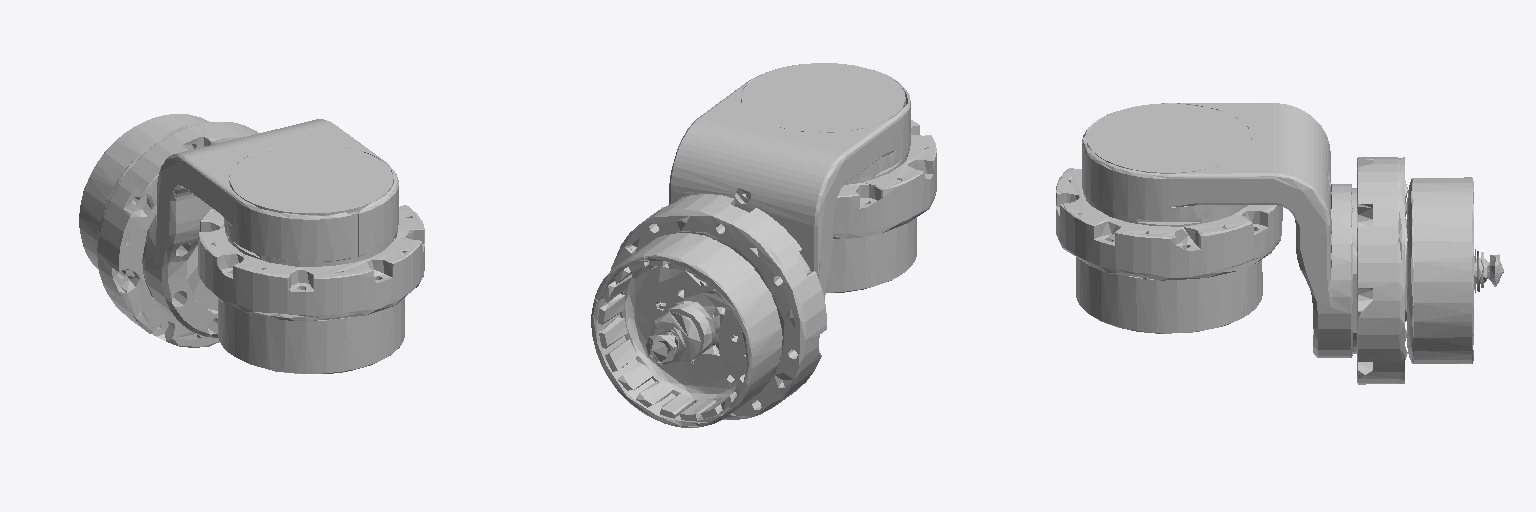
File: left_lower_arm_pitch_link.obj
3 views of the same model, side by side, from view 1: azimuth 30°, elevation 25°; view 2: azimuth 150°, elevation 25°; view 3: azimuth 270°, elevation 25° (orthographic).
Parts seen in each view (by area): view 1: left_lower_arm_pitch_link; view 2: left_lower_arm_pitch_link; view 3: left_lower_arm_pitch_link.
Boxes of the visible parts, <box> form: left_lower_arm_pitch_link: <box>79,114,424,373</box>; left_lower_arm_pitch_link: <box>591,63,936,427</box>; left_lower_arm_pitch_link: <box>1056,103,1503,384</box>.
Size of the model in its own units: 0.052 by 0.0595 by 0.1026.